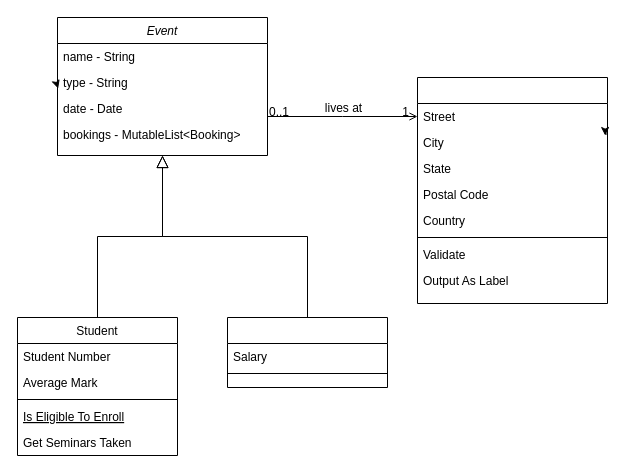
This 633x476 diagram has some shape labels left out. Here are the shapes that lost their labels. From the top down, the box of each, then its label:
(416, 76, 608, 304): Address
(226, 316, 388, 388): Professor
